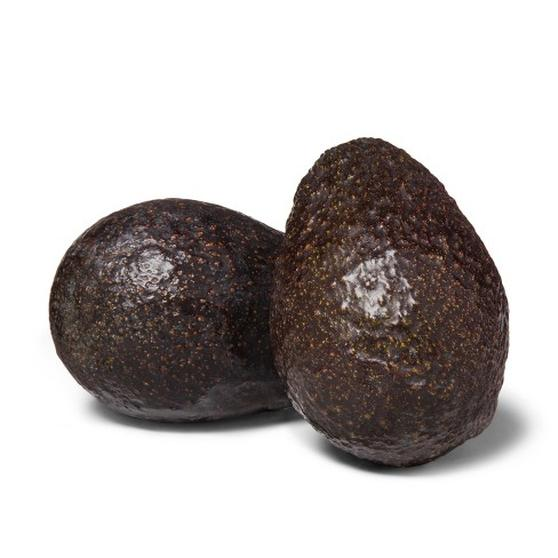avocado: (277, 130, 505, 475), (51, 191, 303, 429)
